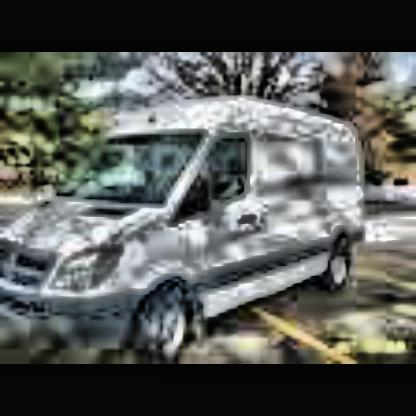Dodge Sprinter Cargo Van 2009: (5, 94, 376, 365)
